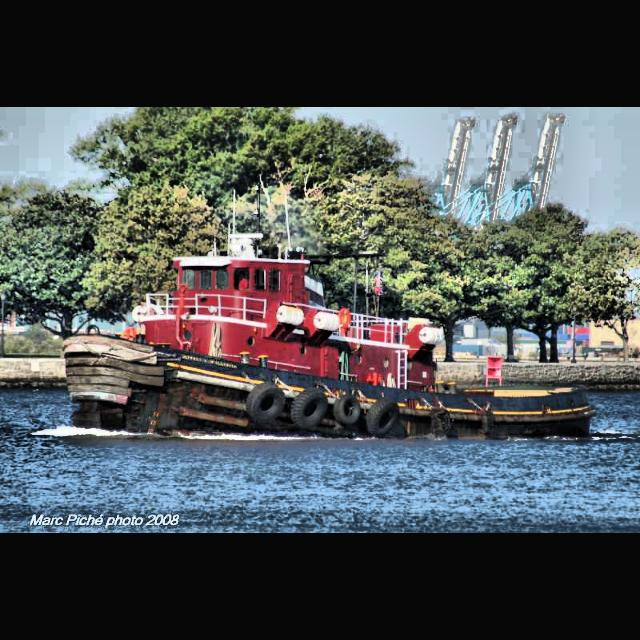tug: (62, 219, 596, 443)
